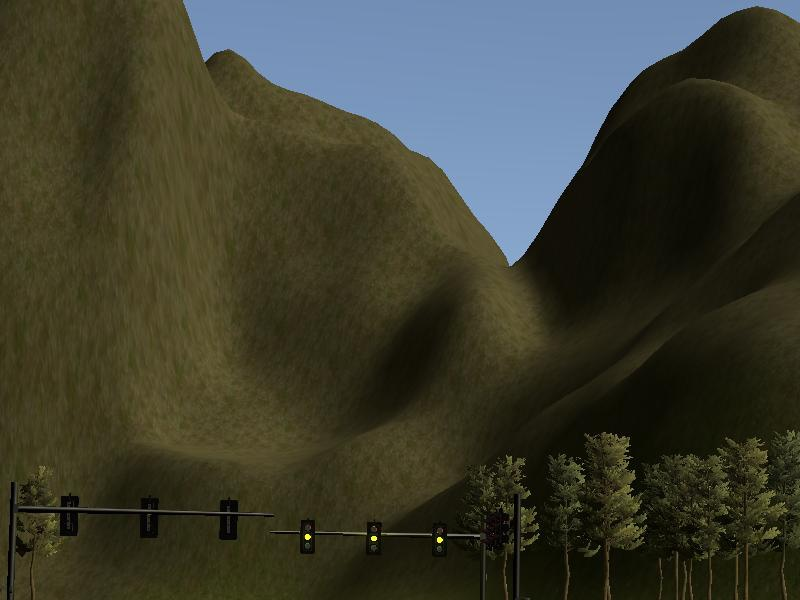Yellow: (363, 519, 383, 560), (298, 517, 317, 556), (431, 519, 448, 560)
